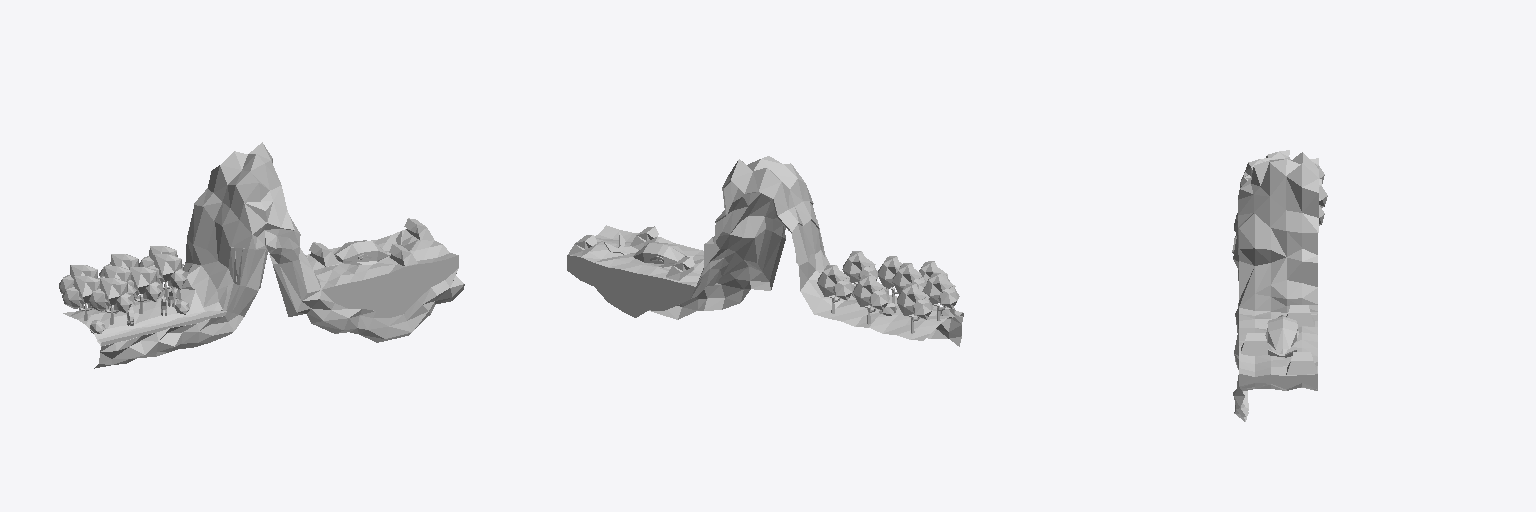
File: water_cycle_base.obj
The picture shows the model from 3 angles: view 1: azimuth 30°, elevation 25°; view 2: azimuth 150°, elevation 25°; view 3: azimuth 270°, elevation 25°; orthographic projection.
Visible parts, largest first — view 1: WAVE004_Untitled.003; view 2: WAVE004_Untitled.003; view 3: WAVE004_Untitled.003.
Part boxes in pixels (x1,y1,x2,y2): WAVE004_Untitled.003: (59,142,464,368); WAVE004_Untitled.003: (567,156,963,346); WAVE004_Untitled.003: (1232,150,1327,421).
Bounding box in the file's own units: 27.85 × 14.1 × 6.03.